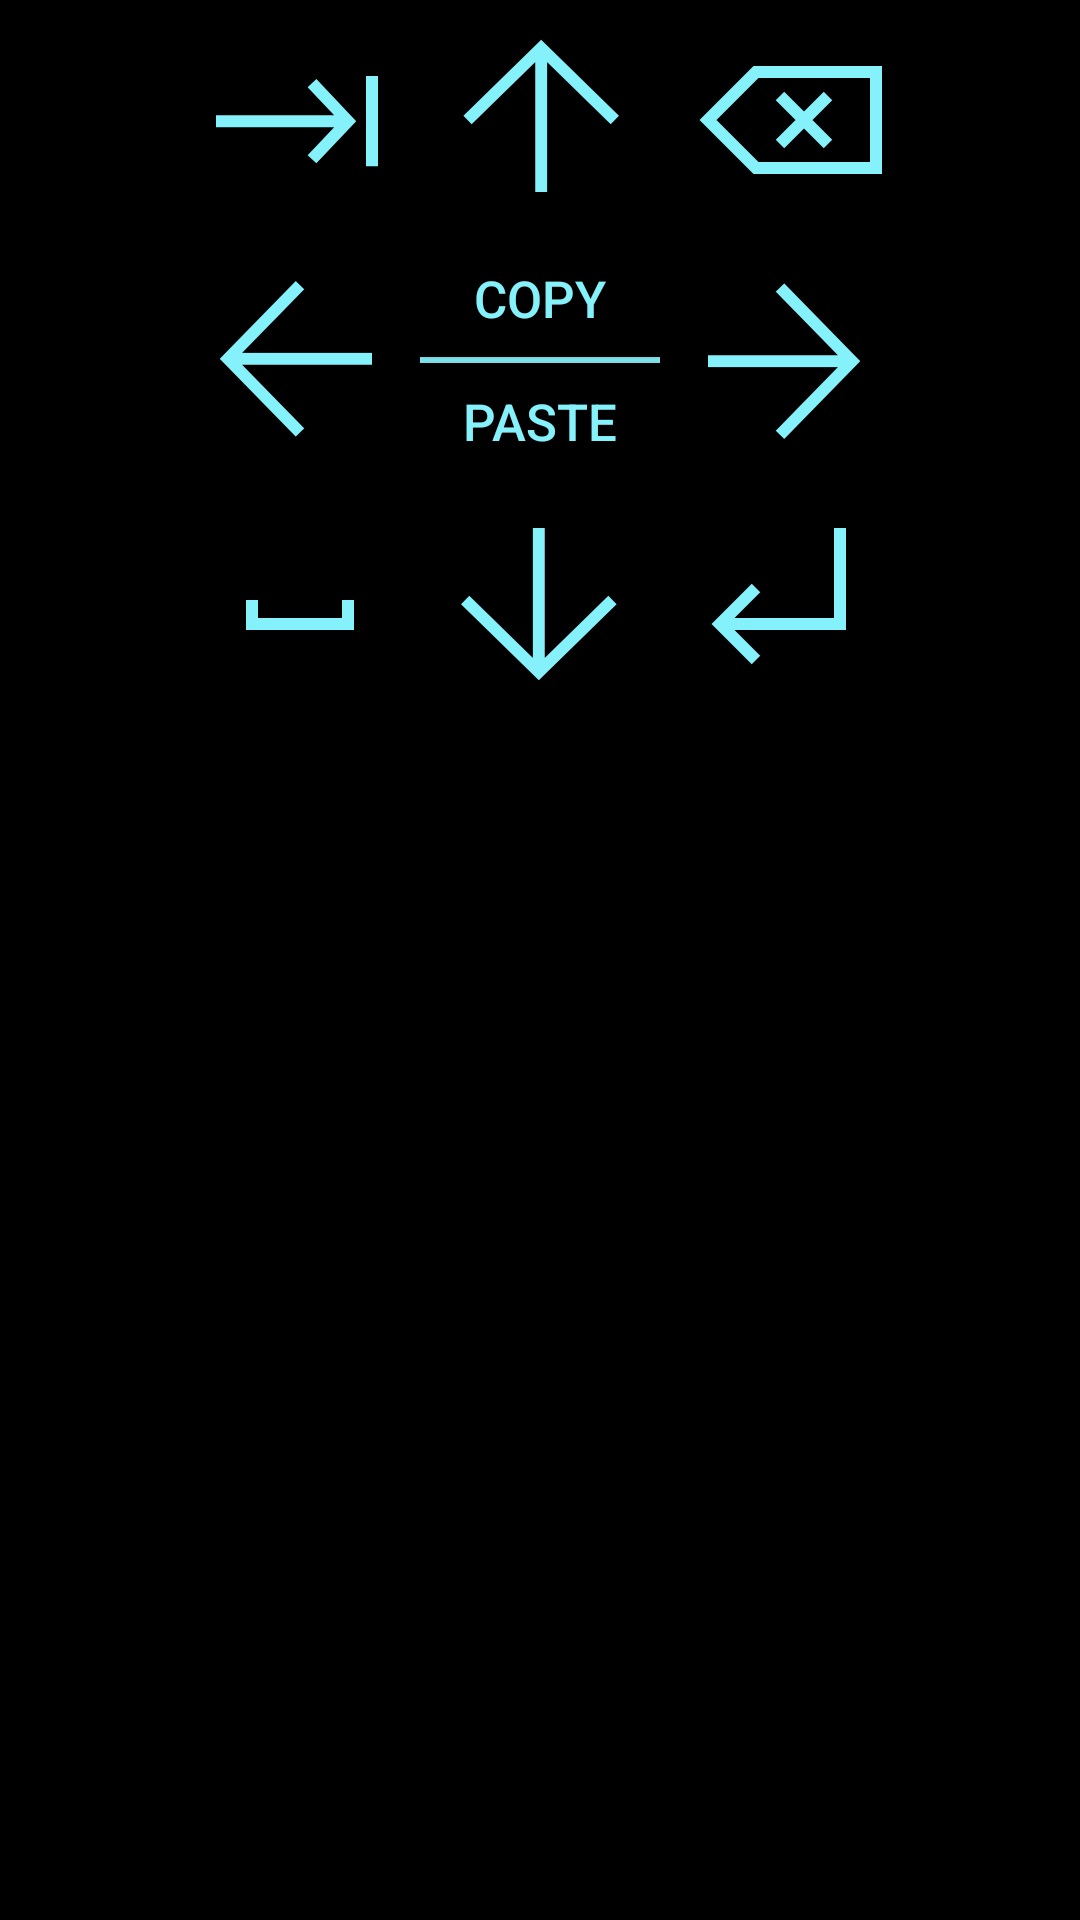

Named icons in this screenshot (1080x1920) and their centers, (x=x, y=y):
backspace key: (x=790, y=120)
enter key: (x=778, y=596)
space key: (x=300, y=615)
